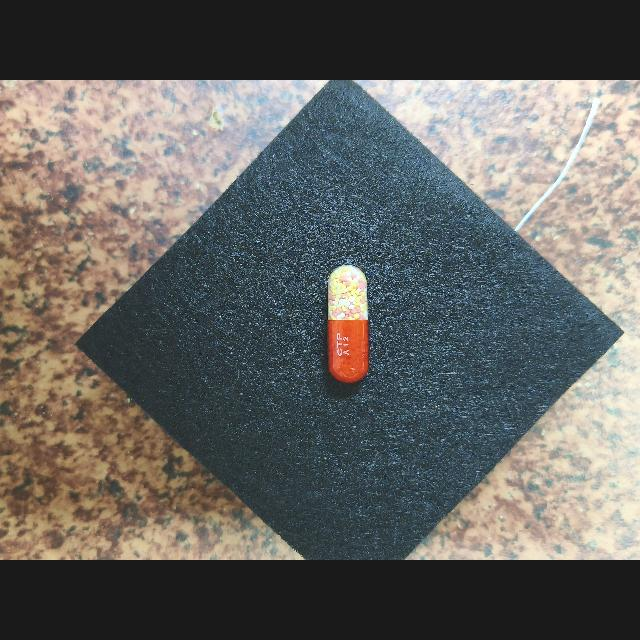Intact Capsule: (328, 265, 369, 383)
